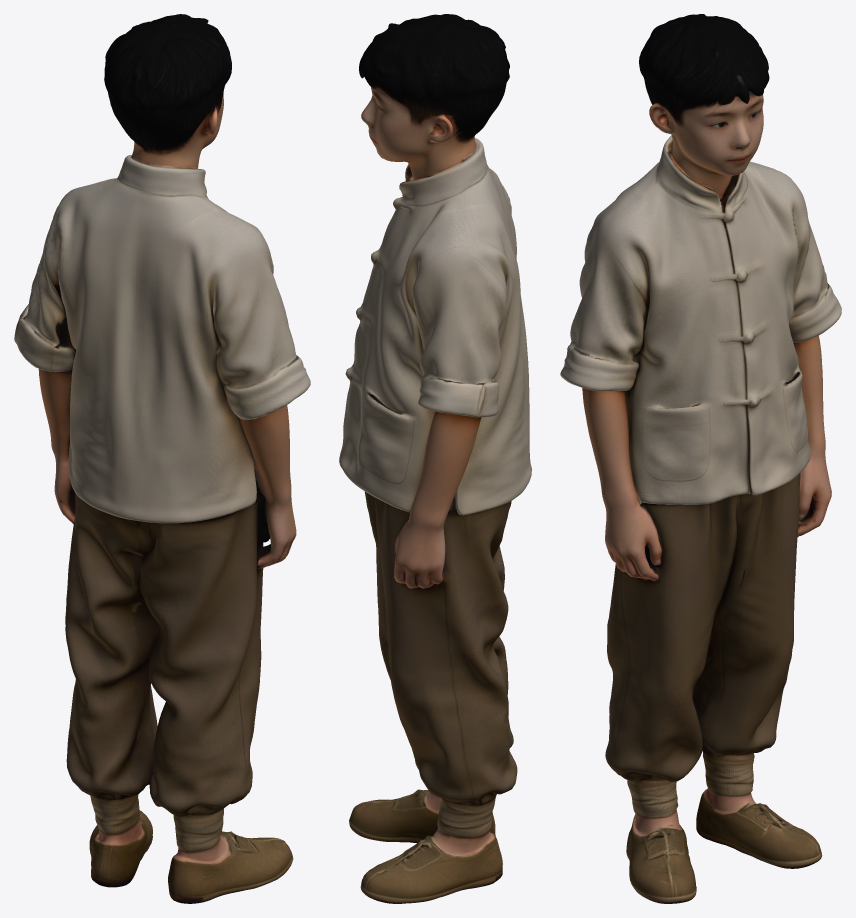
Rendered from 962cdf82-0280-4319-b409-6a28d395bd5a.fbx.
3 views of the same model, side by side, from view 1: azimuth 30°, elevation 25°; view 2: azimuth 150°, elevation 25°; view 3: azimuth 270°, elevation 25° (orthographic).
Visible parts, largest first — view 1: tripo_node_f7c3519c; view 2: tripo_node_f7c3519c; view 3: tripo_node_f7c3519c.
Part boxes in pixels (<box>): tripo_node_f7c3519c: <box>14,14,310,903</box>; tripo_node_f7c3519c: <box>339,14,531,903</box>; tripo_node_f7c3519c: <box>560,14,841,903</box>.
Bounding box in the file's own units: 0.2463 × 0.9784 × 0.2983.
